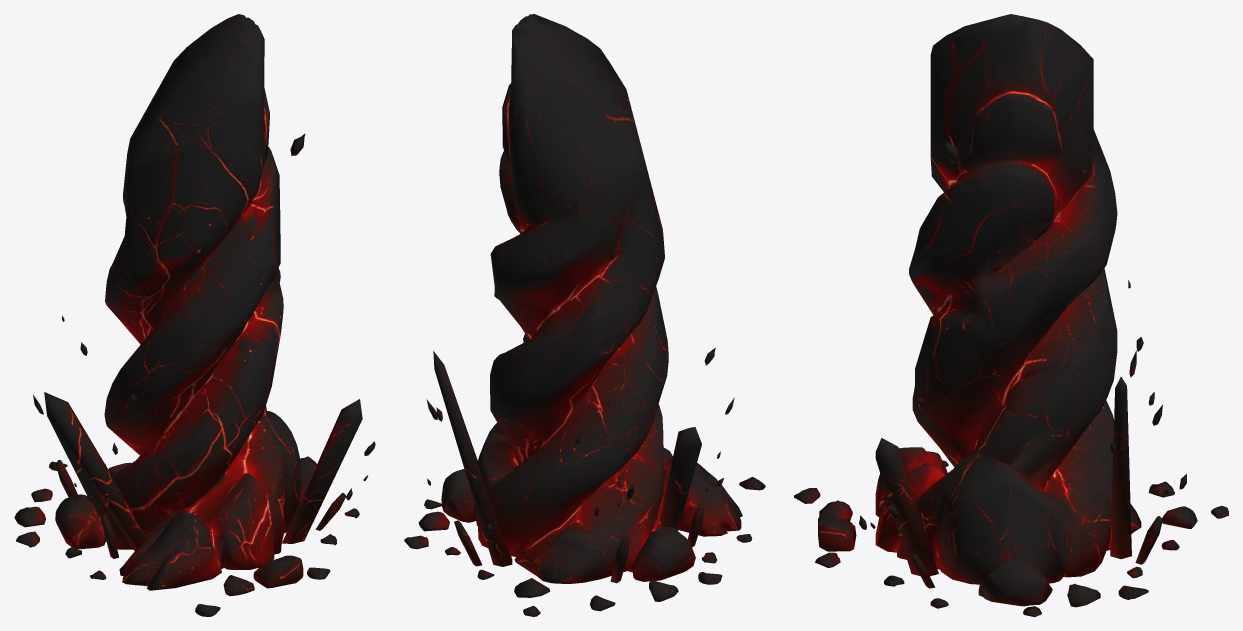
Rendered from 019e3663-d610-7fde-ad16-e6f7cf631e28.glb.
3 views of the same model, side by side, from view 1: azimuth 30°, elevation 25°; view 2: azimuth 150°, elevation 25°; view 3: azimuth 270°, elevation 25° (orthographic). The views are drawn at different scales.
Parts seen in each view (by area): view 1: tripo_node_ae28b09f-7ea3-4971-bbf5-29fc22f81d46; view 2: tripo_node_ae28b09f-7ea3-4971-bbf5-29fc22f81d46; view 3: tripo_node_ae28b09f-7ea3-4971-bbf5-29fc22f81d46.
Part boxes in pixels (x1,y1,x2,y2): tripo_node_ae28b09f-7ea3-4971-bbf5-29fc22f81d46: (14, 14, 375, 616); tripo_node_ae28b09f-7ea3-4971-bbf5-29fc22f81d46: (404, 14, 765, 616); tripo_node_ae28b09f-7ea3-4971-bbf5-29fc22f81d46: (794, 14, 1228, 616).
Bounding box in the file's own units: 0.6387 × 0.998 × 0.709.
1 material, 1 textured.
